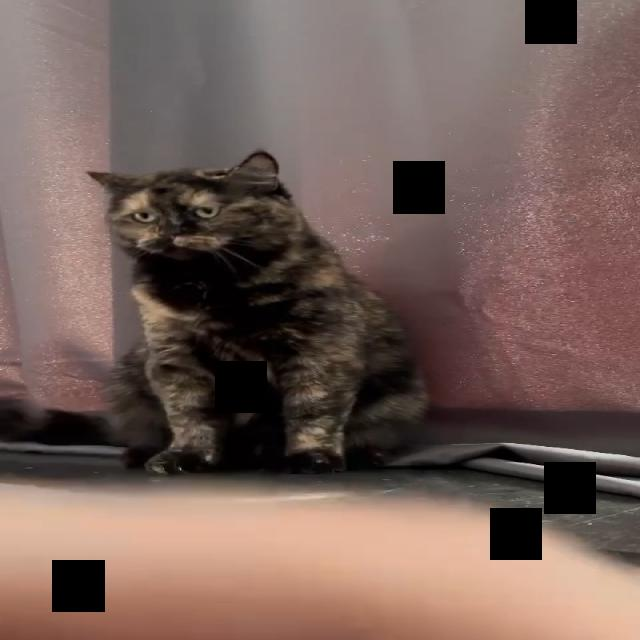authorized: (84, 150, 431, 476)
